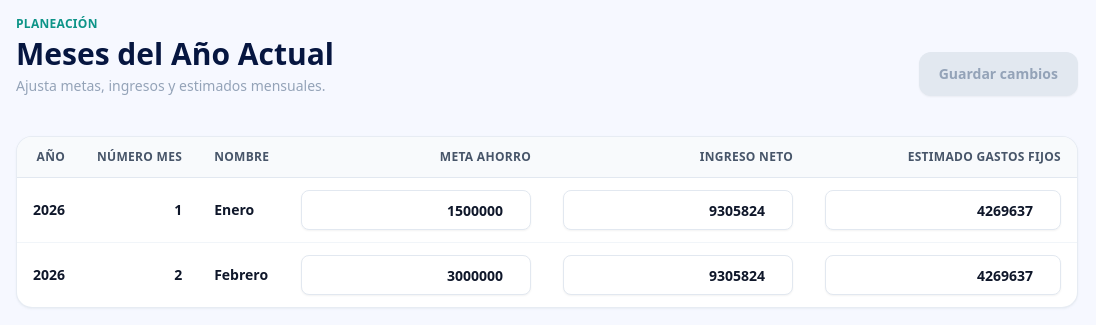
Test: MesesTable more coverage › deshabilita guardar cuando no hay cambios y lo habilita al editar
This screenshot has width=1096, height=325.
expect the button "Guardar cambios" is disabled: met, box [919,52,1078,96]
Replace the text in the 1st number field with "9999999": (416, 210) [301,190,531,230]
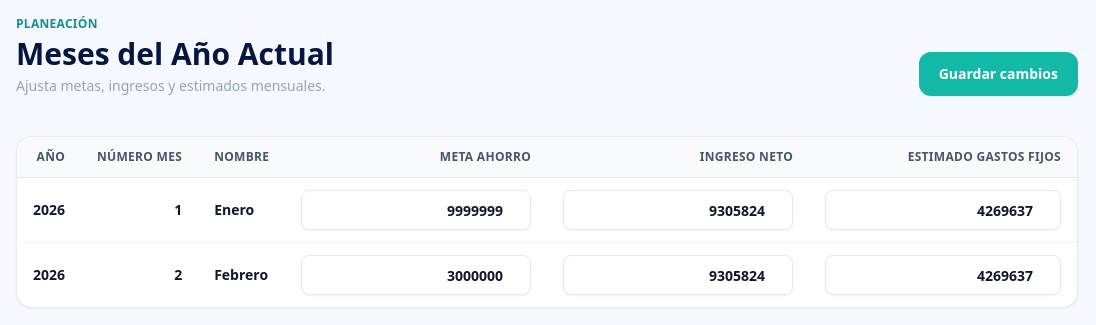
expect the button "Guardar cambios" is enabled: met, box [919,52,1078,96]
